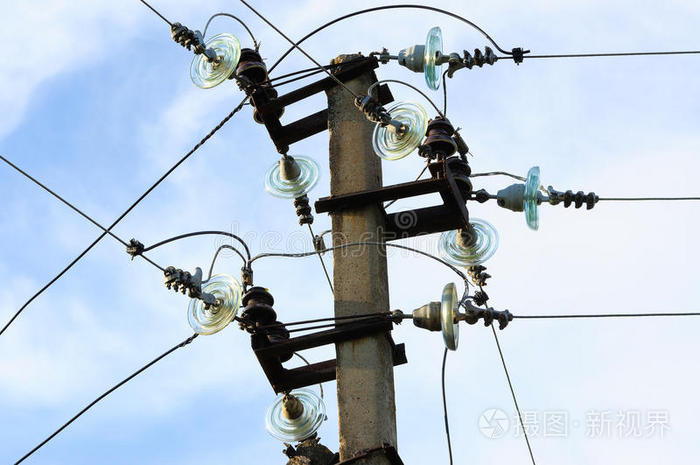insulator: (264, 385, 331, 440), (185, 271, 243, 334), (373, 103, 424, 160), (190, 31, 239, 89), (440, 219, 499, 267), (268, 151, 320, 198), (438, 282, 465, 354), (521, 166, 547, 231), (419, 26, 444, 90)
